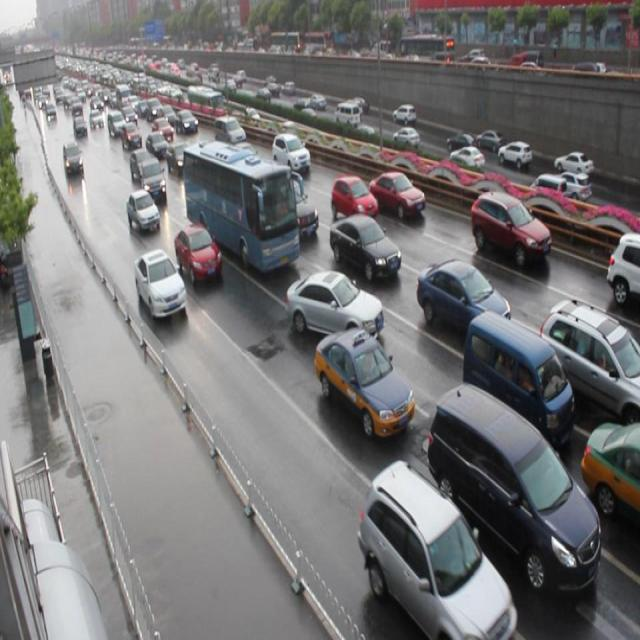car: (357, 457, 517, 640), (536, 296, 640, 430), (313, 323, 411, 436), (415, 258, 510, 338), (285, 269, 384, 343), (579, 419, 640, 528), (469, 188, 551, 266), (329, 213, 402, 284), (133, 247, 188, 320), (174, 220, 224, 285), (368, 169, 425, 220), (605, 229, 640, 303), (330, 175, 377, 222), (270, 130, 311, 174), (124, 187, 160, 233), (139, 156, 168, 198)
truck: (423, 380, 597, 589), (462, 308, 572, 442), (214, 113, 247, 148)
van: (180, 136, 296, 270)
